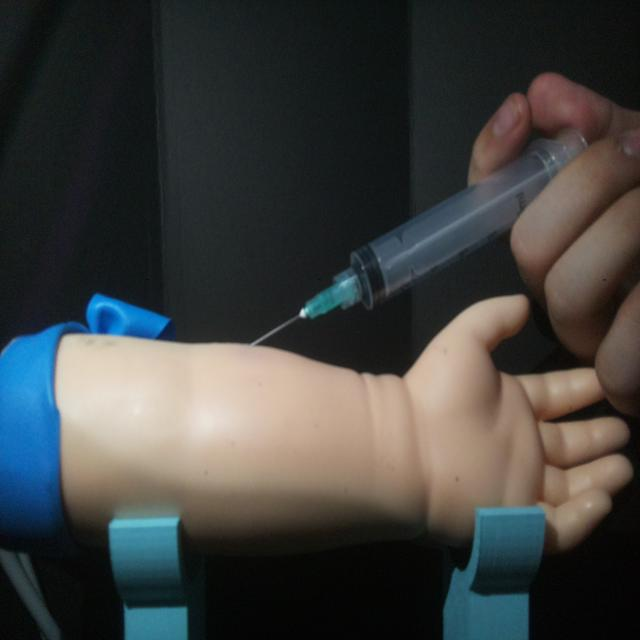25deg: (244, 121, 592, 350)
